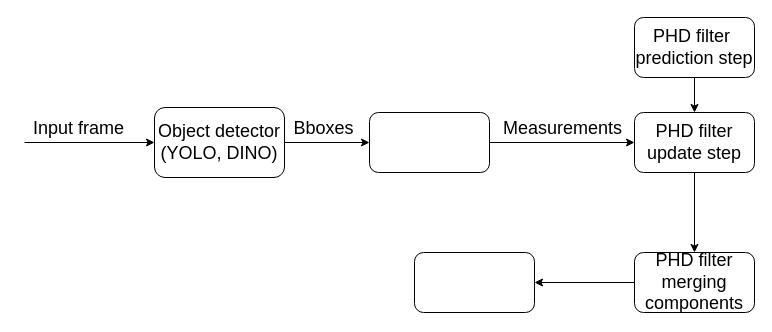
The diagram is 772 pixels wide and 332 high, and some of its shapes have lost their labels. Here are the shapes that lost their labels. From the top down, the box of each, then its label:
(368, 112, 490, 172): Object segmentation (YOLO, SAM)
(414, 252, 534, 312): PHD filter pruning components
